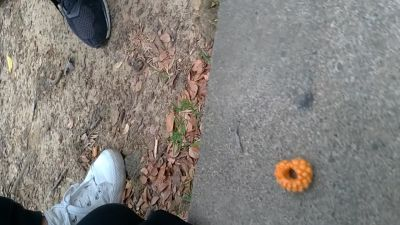eggs: (275, 159, 314, 192)
